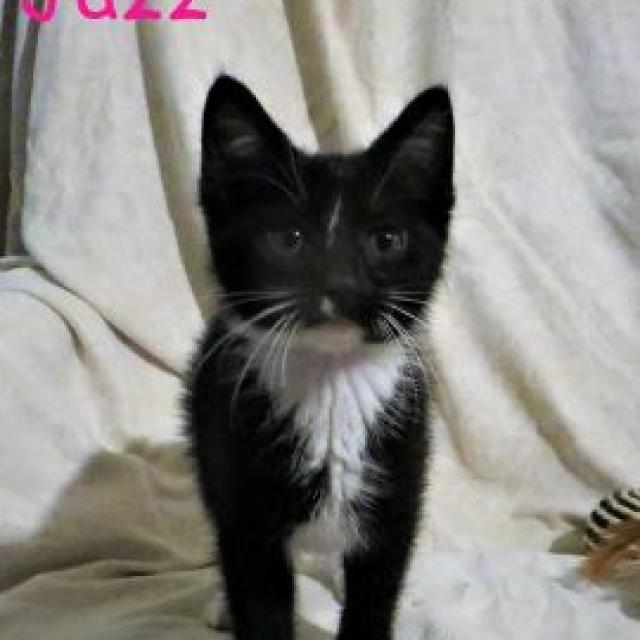Tuxedo: (177, 68, 464, 640)
